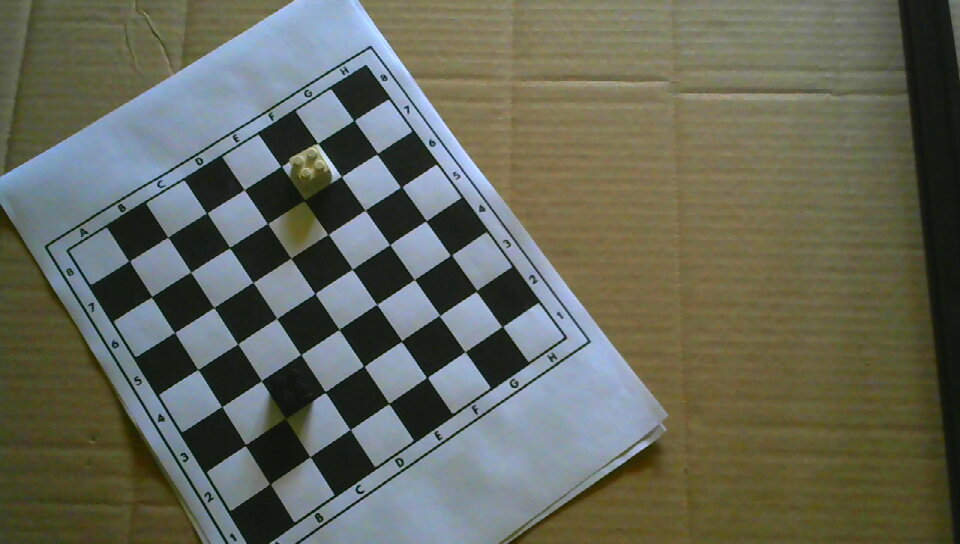bp: (270, 364, 316, 413)
wp: (288, 144, 332, 191)
